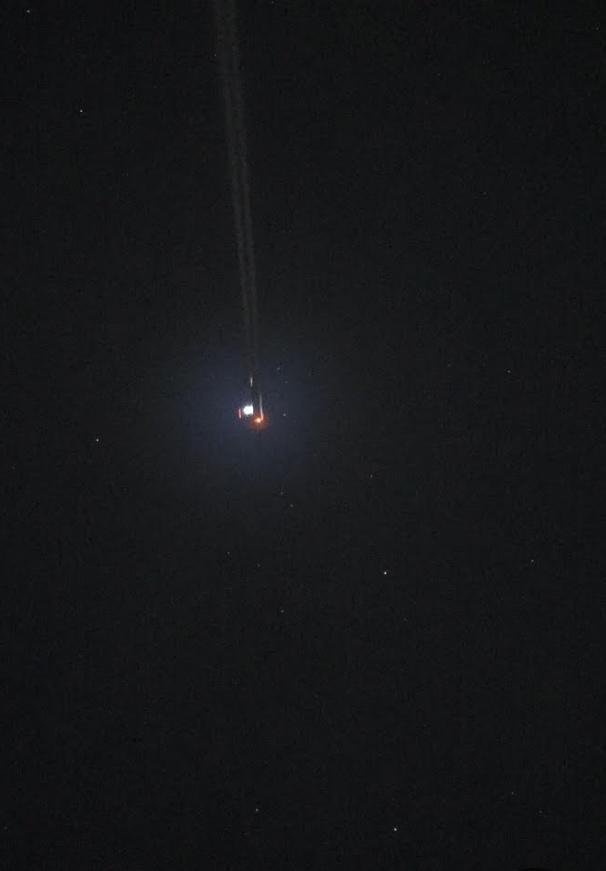Plane: (209, 0, 276, 444)
